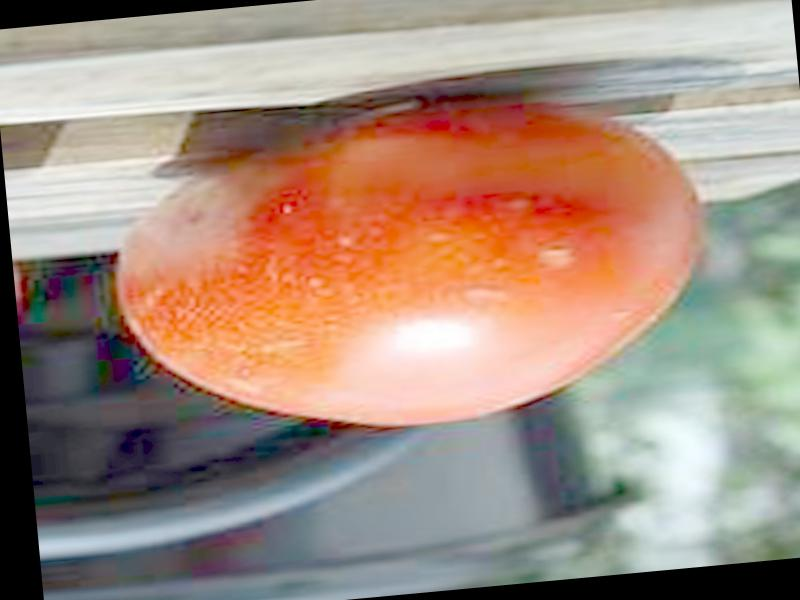Tomato: (105, 87, 721, 452)
